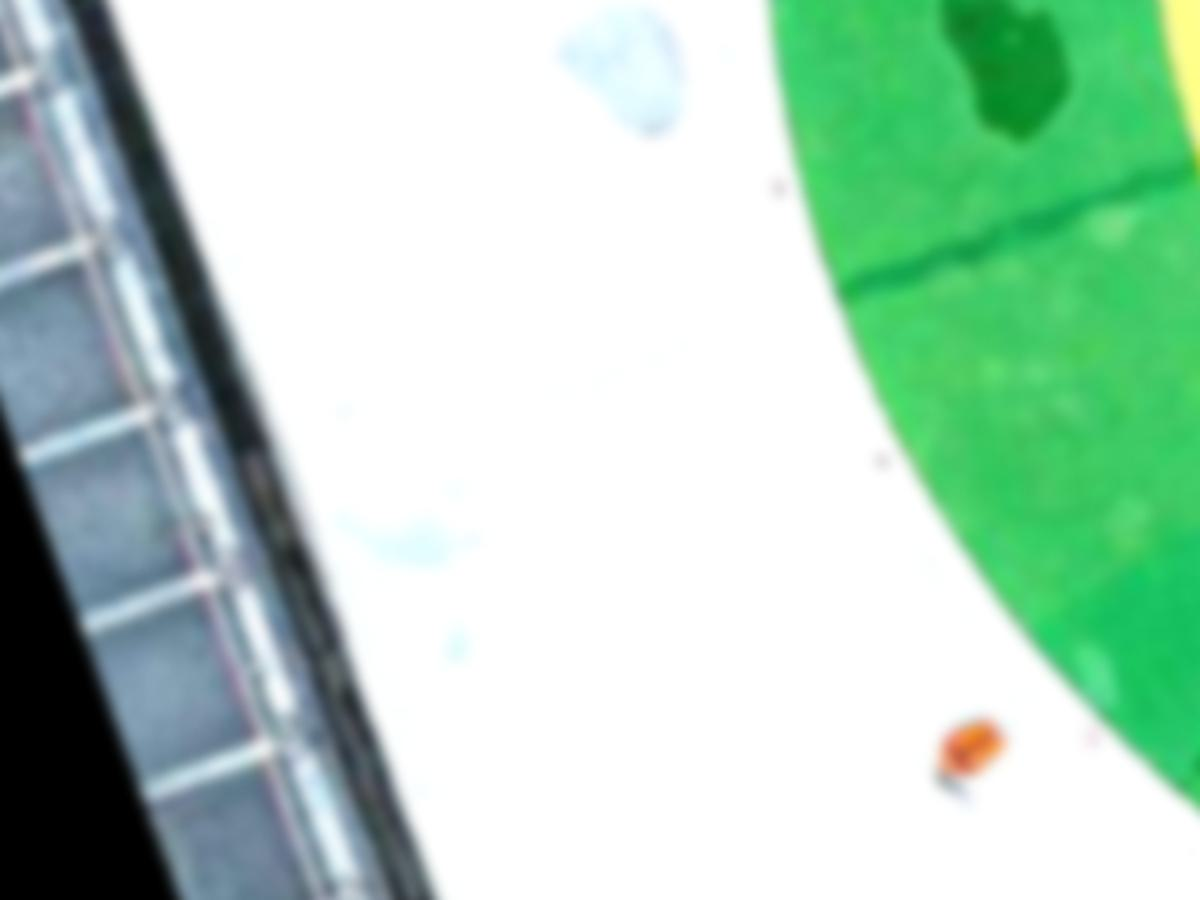Apron: (1124, 1, 1200, 244)
